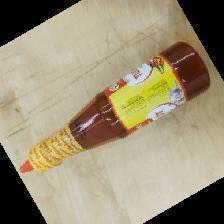Tuong: (20, 41, 212, 172)
